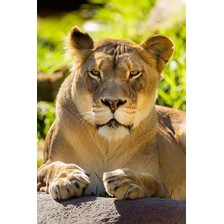lion: (39, 24, 196, 202)
